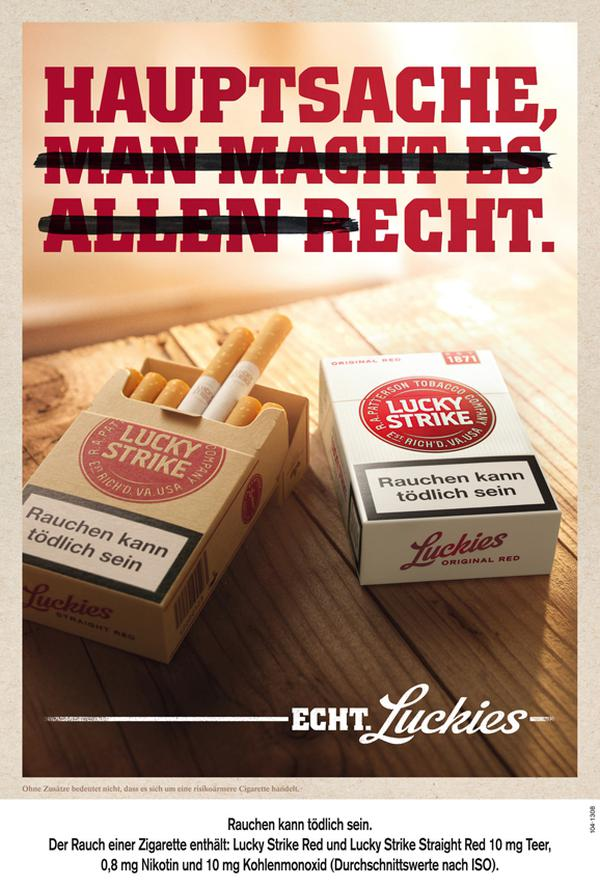lucky_strike_red: (354, 352, 509, 520)
